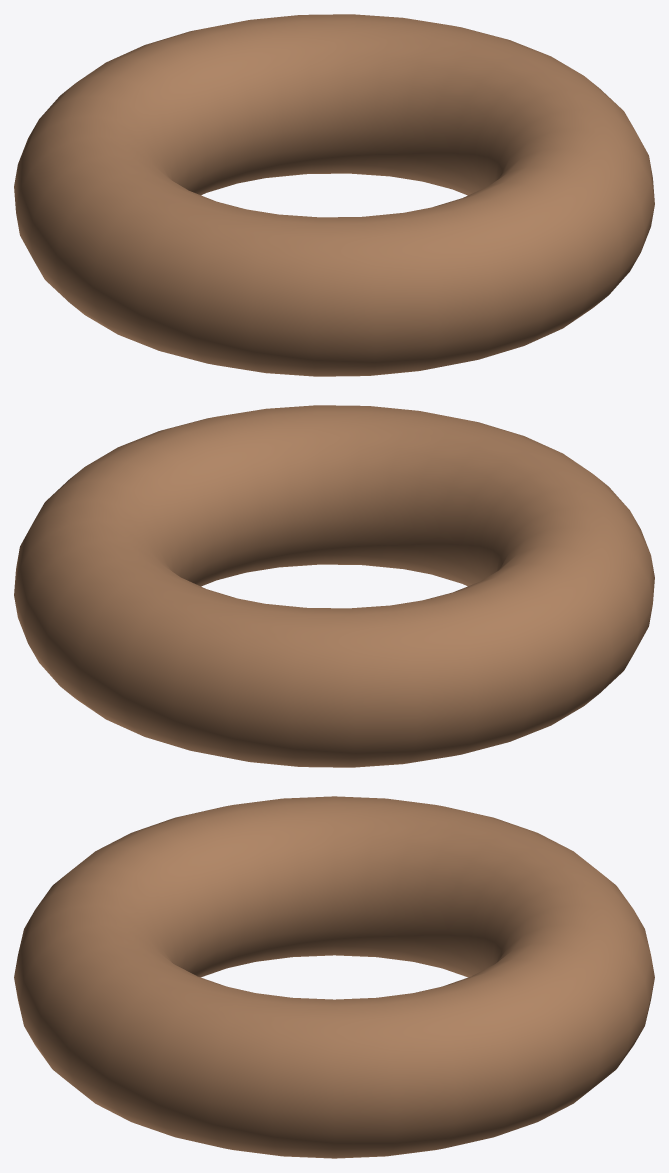
File: SM_DengLiZI.fbx
3 views of the same model, one above another, from view 1: azimuth 30°, elevation 25°; view 2: azimuth 150°, elevation 25°; view 3: azimuth 270°, elevation 25° (orthographic).
Parts seen in each view (by area): view 1: SM_DenglLiZi; view 2: SM_DenglLiZi; view 3: SM_DenglLiZi.
Part boxes in pixels (<box>): SM_DenglLiZi: <box>14,14,654,376</box>; SM_DenglLiZi: <box>14,405,654,767</box>; SM_DenglLiZi: <box>14,796,654,1158</box>.
Bounding box in the file's own units: 1.6 × 0.4 × 1.6.
